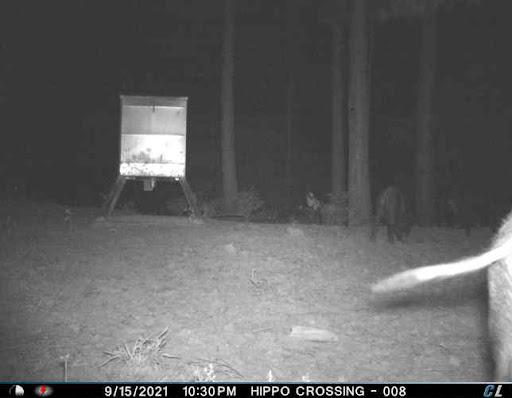Hog: (367, 176, 419, 249)
